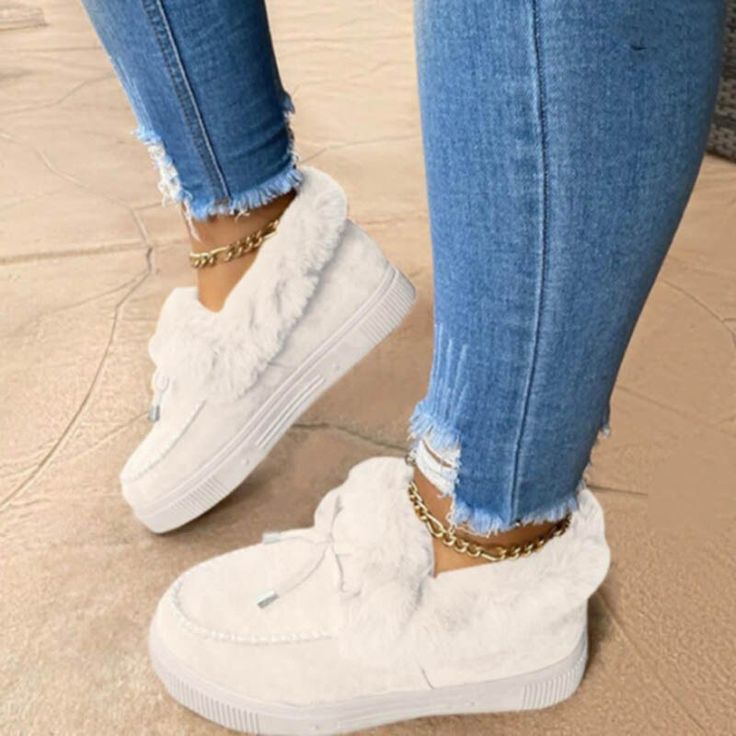gamuza: (119, 163, 611, 736)
